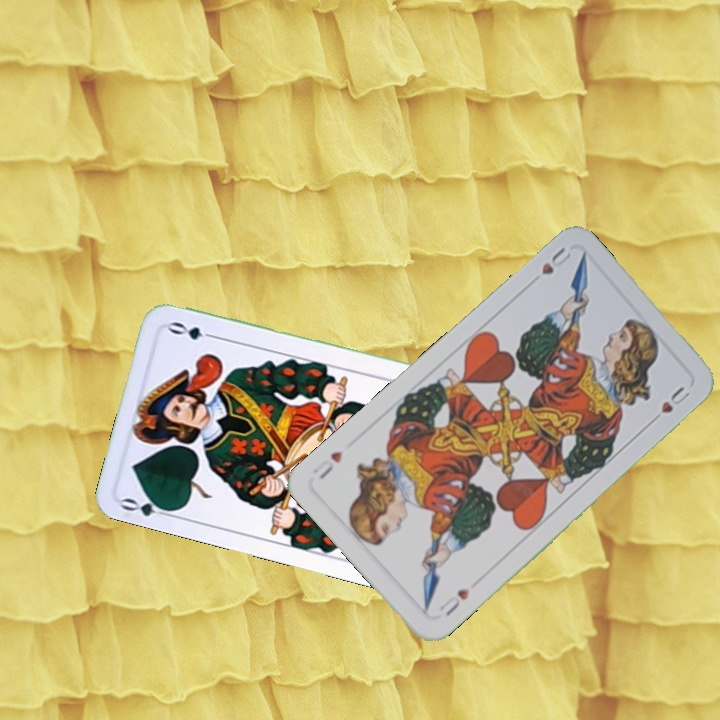GO: (117, 490, 178, 521)
HU: (537, 242, 574, 278), (435, 584, 473, 619)
